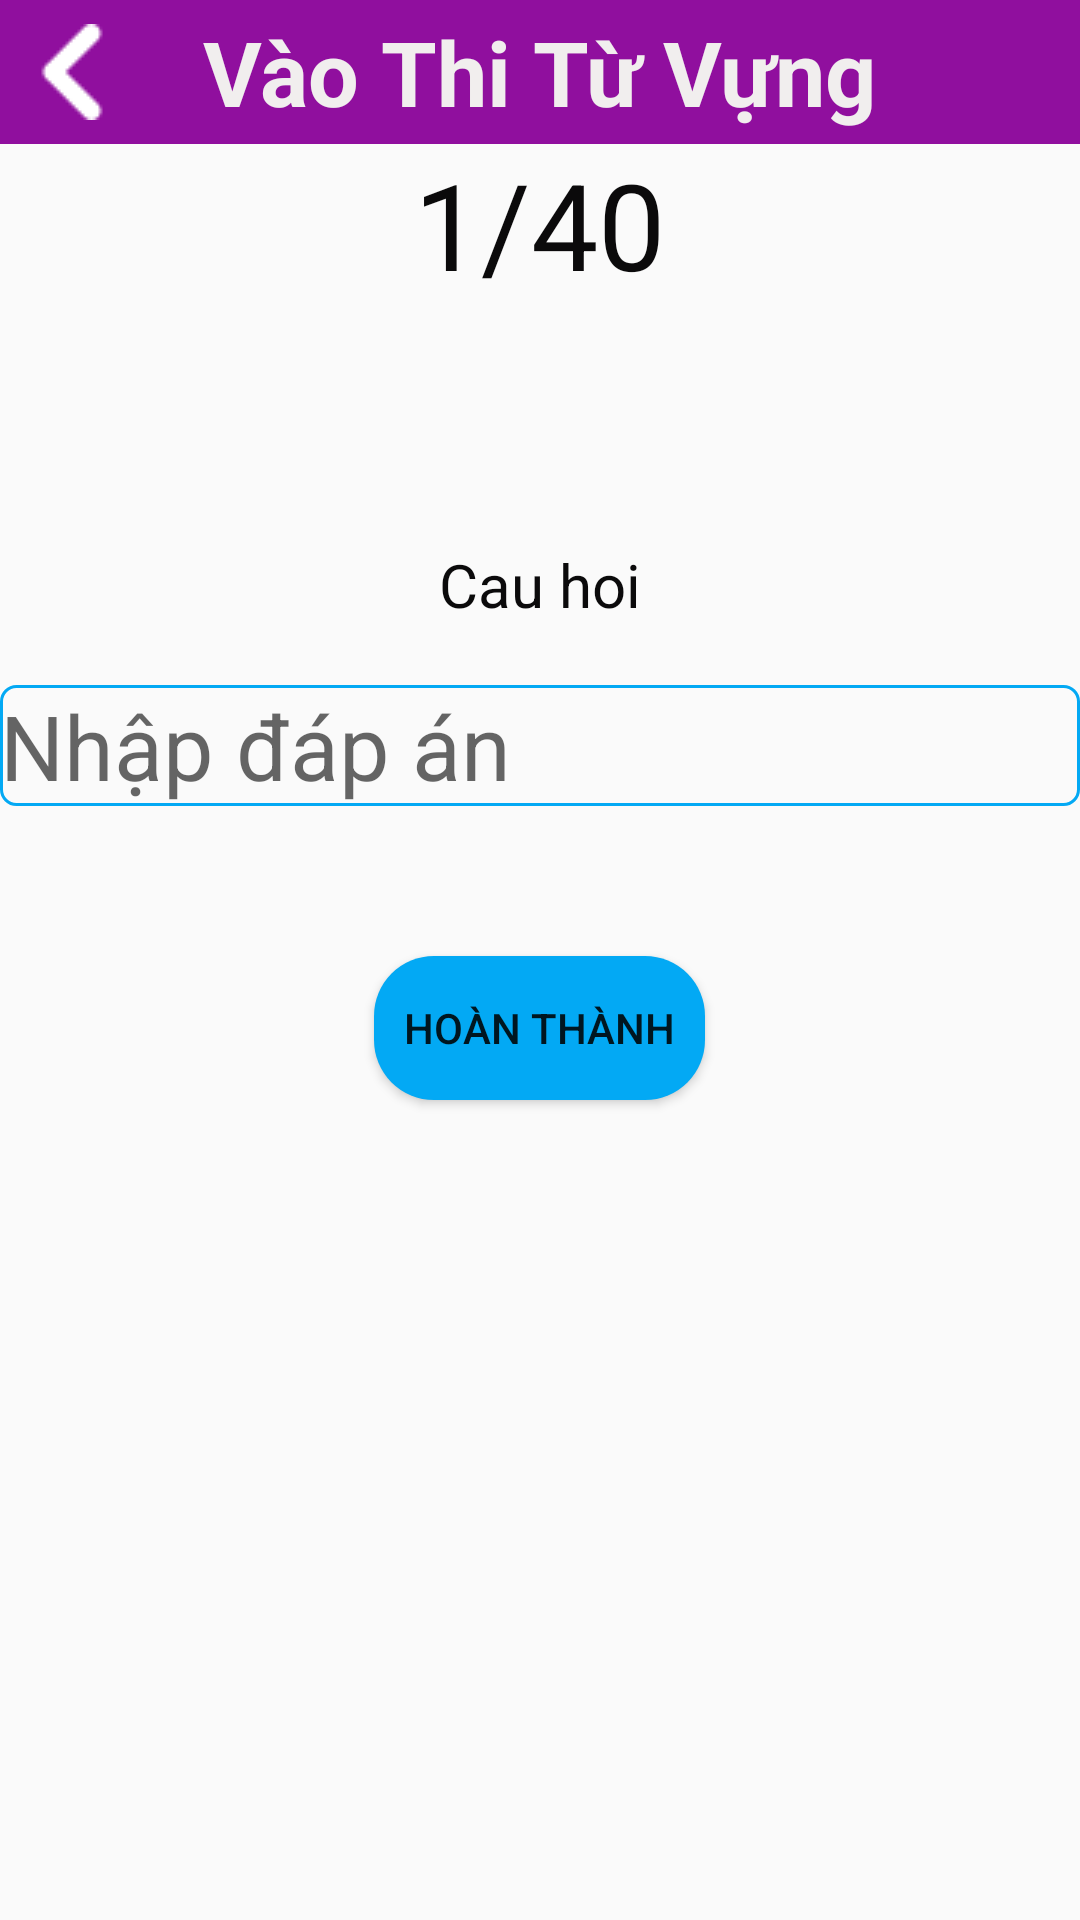

Named icons in this screenshot (1080×1920) and their bounding boxes, (left=x1, top=y1, right=x2, bottom=y2):
backk trang: (left=41, top=24, right=103, bottom=120)
